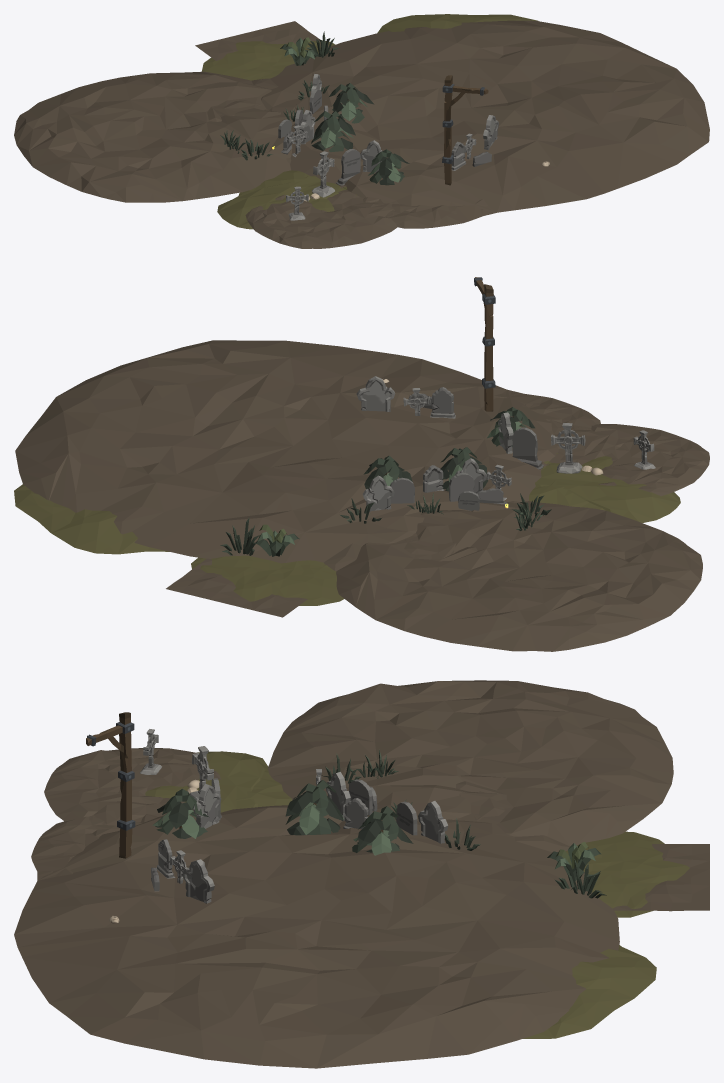
The model's file is crypt_graves_c.gltf.
The picture shows the model from 3 angles, top to bottom: view 1: azimuth 30°, elevation 25°; view 2: azimuth 150°, elevation 25°; view 3: azimuth 270°, elevation 25°; orthographic projection. The views are drawn at different scales.
Visible parts, largest first — view 1: crypt_graves_c; view 2: crypt_graves_c; view 3: crypt_graves_c.
Part boxes in pixels (<box>): crypt_graves_c: <box>14,14,709,248</box>; crypt_graves_c: <box>14,277,709,651</box>; crypt_graves_c: <box>14,680,709,1068</box>.
Size of the model in its own units: 22.57 by 4.62 by 17.11.
1 material, 1 textured.
